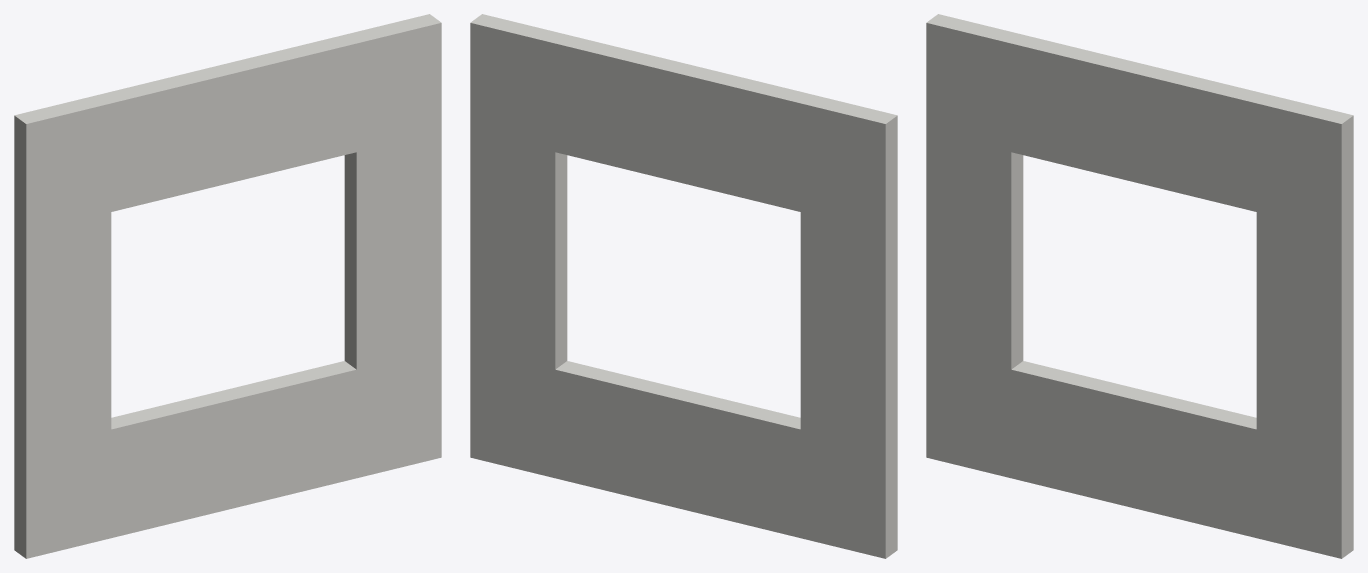
File: Wal_3_C.fbx
3 renders of one model, left to right at view 1: azimuth 30°, elevation 25°; view 2: azimuth 150°, elevation 25°; view 3: azimuth 330°, elevation 25°, orthographic.
Parts seen in each view (by area): view 1: pCube40; view 2: pCube40; view 3: pCube40.
Boxes of the visible parts, x1,y1,x2,y2 form: pCube40: [14, 14, 441, 558]; pCube40: [470, 14, 897, 558]; pCube40: [926, 14, 1353, 558].
Size of the model in its own units: 4 by 4 by 0.2.
1 material, 1 textured.
